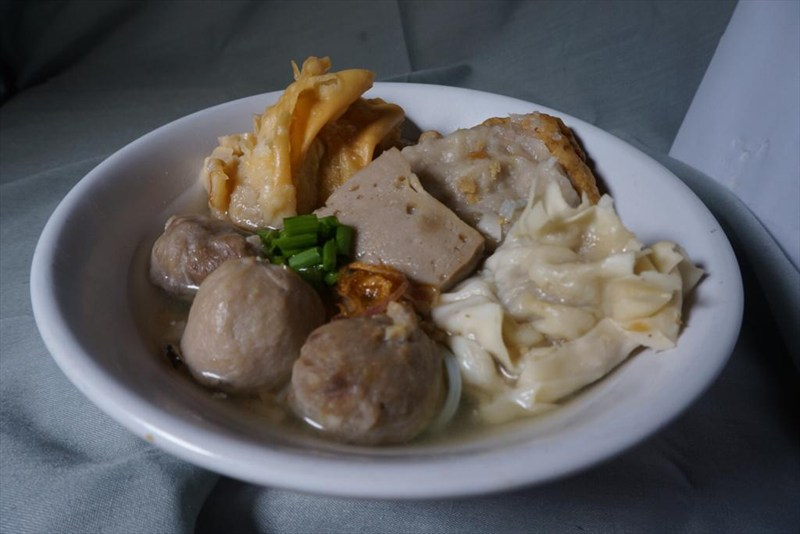Bakso: (27, 75, 718, 490)
